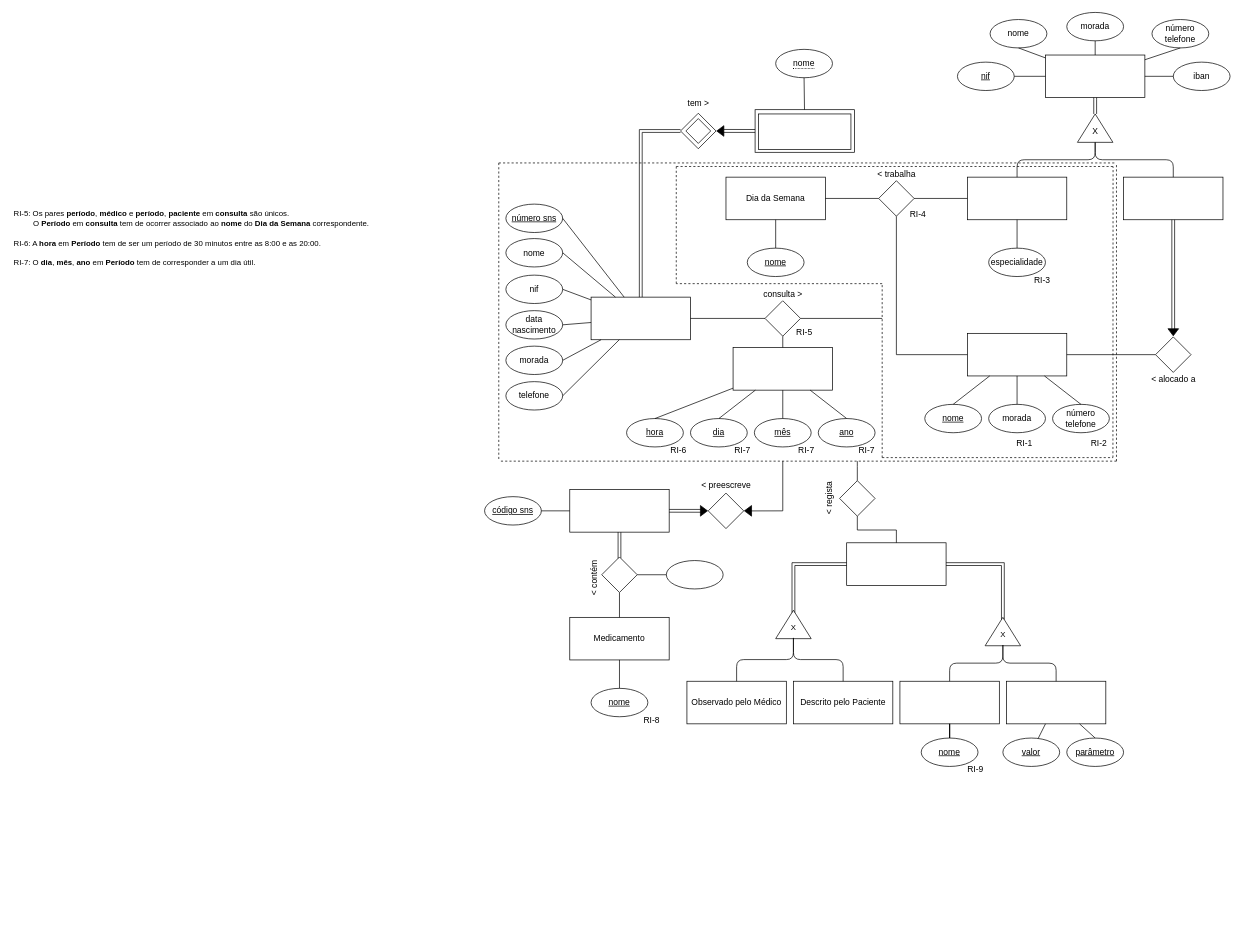
This 1243x942 diagram has some shape labels left out. Each missing label, with the box of its shape:
Clínica: (967, 333, 1067, 376)
Enfermeiro: (1123, 176, 1223, 220)
Médico: (967, 176, 1067, 220)
Paciente: (590, 296, 690, 340)
Período: (732, 347, 832, 390)
Profissional de Saúde: (1045, 54, 1145, 98)
Qualitativo: (899, 681, 999, 724)
quantidade: (666, 560, 723, 589)
Quantitativo: (1006, 681, 1106, 724)
Receita Médica: (569, 489, 669, 532)
Sintoma: (846, 542, 946, 585)
Sistema de Saúde: (754, 109, 854, 152)
